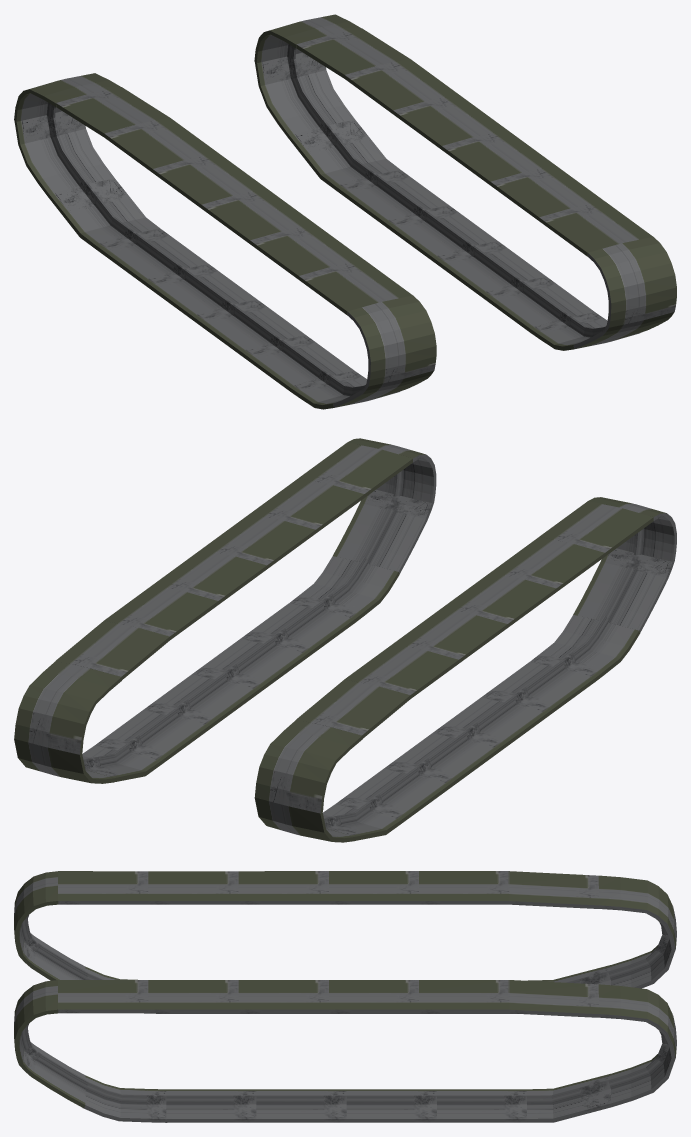
File: kv1_hull_m1.obj
3 renders of one model, top to bottom at view 1: azimuth 30°, elevation 25°; view 2: azimuth 150°, elevation 25°; view 3: azimuth 270°, elevation 25°, orthographic. The views are drawn at different scales.
Parts seen in each view (by area): view 1: kv1_hull_m1; view 2: kv1_hull_m1; view 3: kv1_hull_m1.
Boxes of the visible parts, box(x1,y1,x2,y2) form: kv1_hull_m1: box(14, 14, 676, 409); kv1_hull_m1: box(14, 438, 676, 842); kv1_hull_m1: box(14, 871, 676, 1122).
Size of the model in its own units: 3.26 by 1.27 by 6.59.
Materials: 1 (1 with a texture image).
